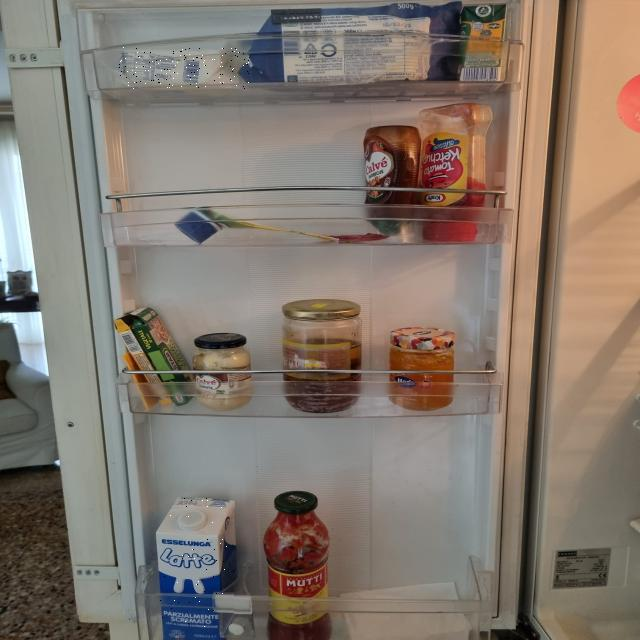butter: (119, 47, 250, 89)
milk: (156, 496, 234, 640)
